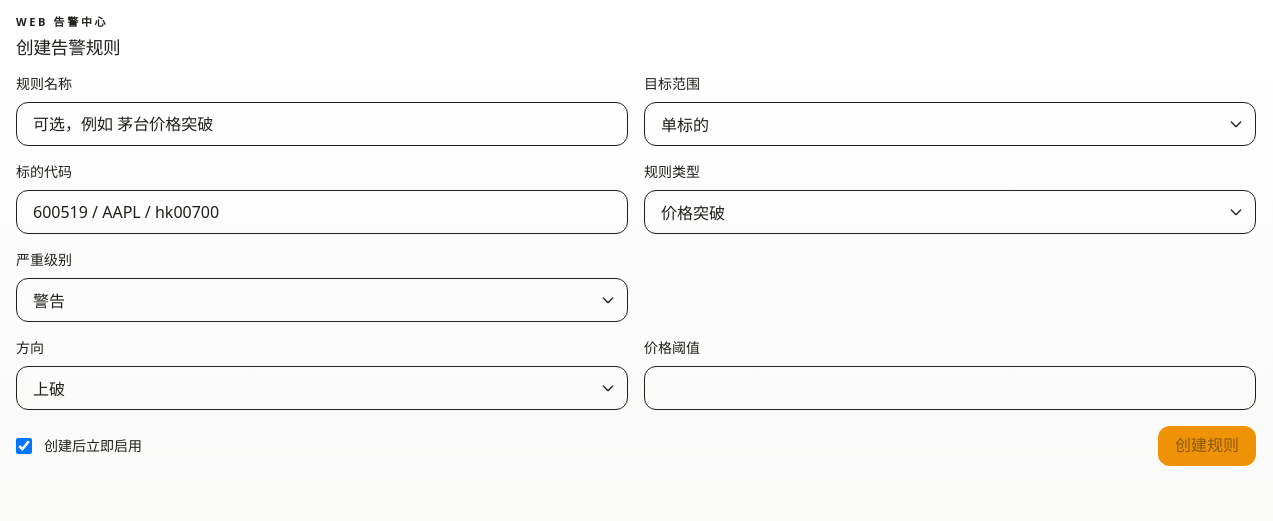
Test: AlertRuleForm › rejects indicator period combinations that exceed fetchable history
The image size is (1273, 521).
Type "600519" into the field labelled "标的代码" at (322, 212), box x1=16 y1=190 x2=628 y2=234
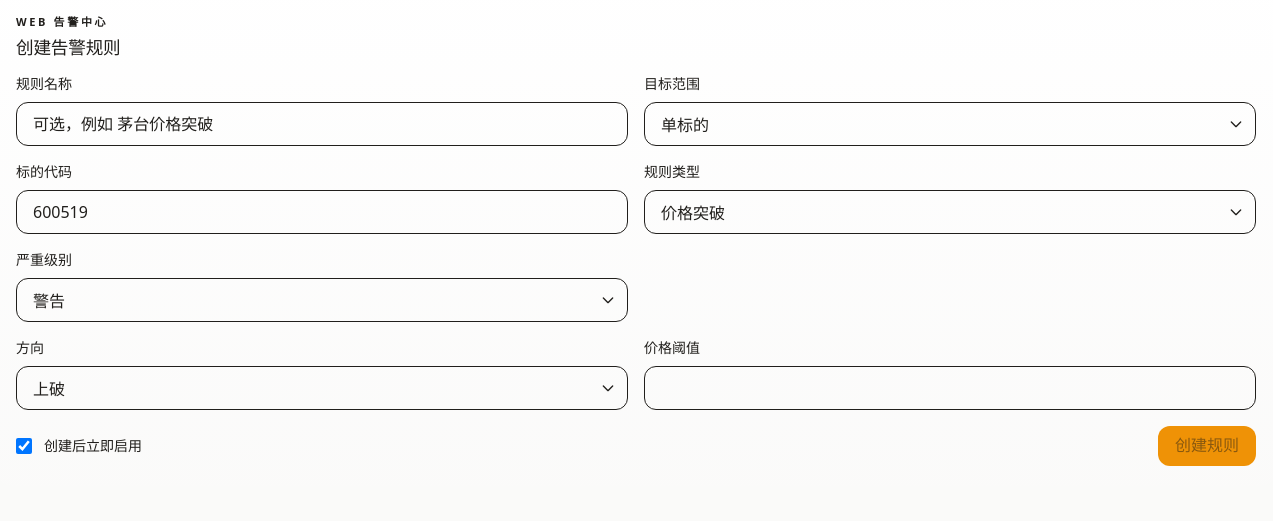
Select "MACD 金叉/死叉" in the dropdown labelled "规则类型" at (950, 212), box x1=644 y1=190 x2=1256 y2=234
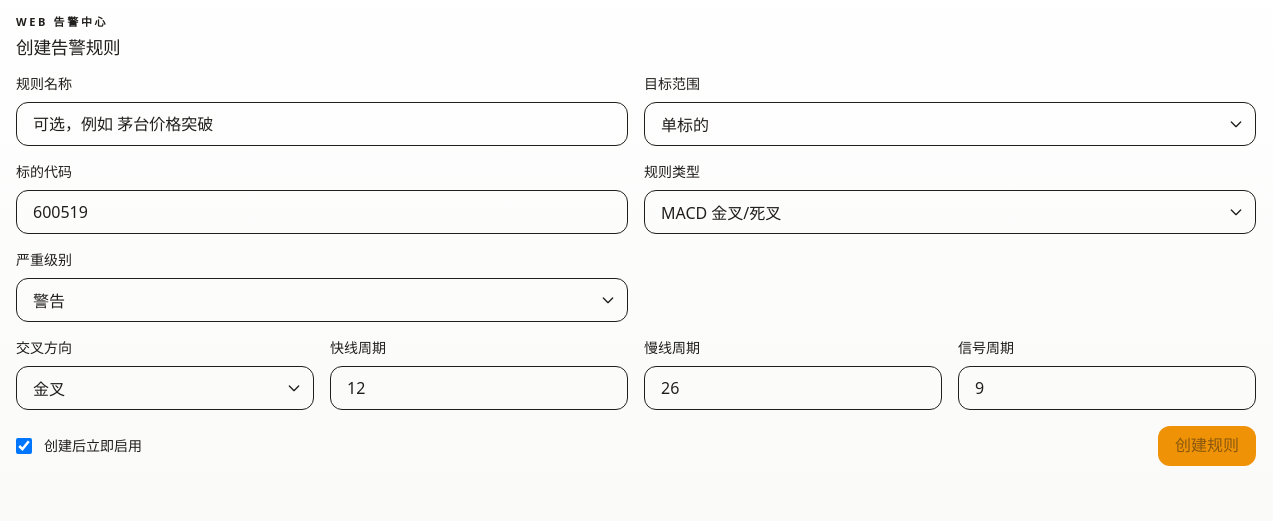
Replace the text in the number field labelled "快线周期" with "2" at (479, 388), box x1=330 y1=366 x2=628 y2=410
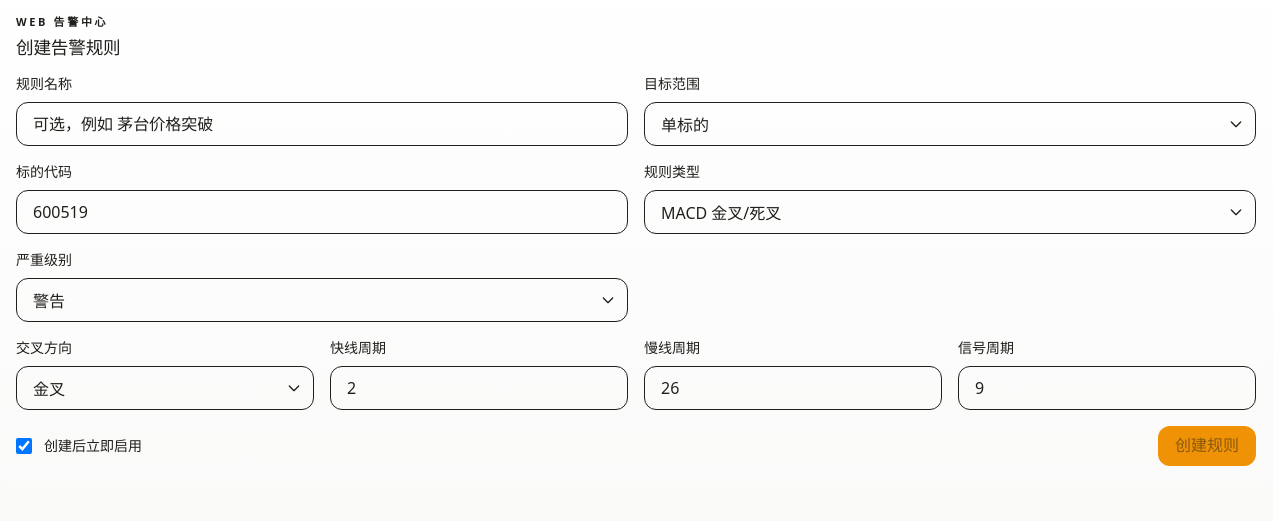
Replace the text in the number field labelled "慢线周期" with "250" at (793, 388), box x1=644 y1=366 x2=942 y2=410
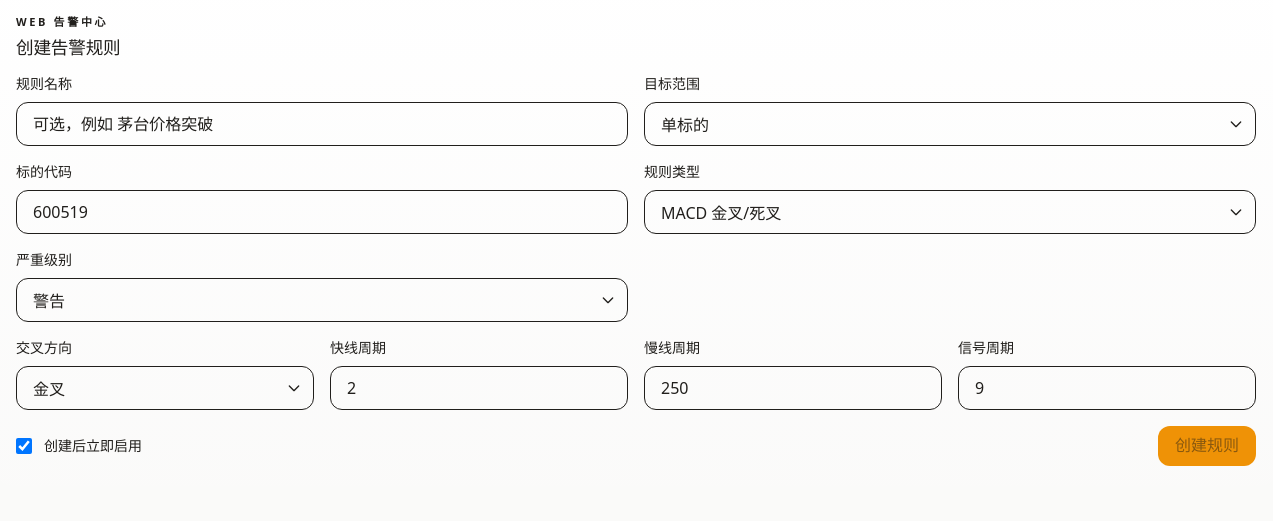
Replace the text in the number field labelled "信号周期" with "250" at (1107, 388), box x1=958 y1=366 x2=1256 y2=410
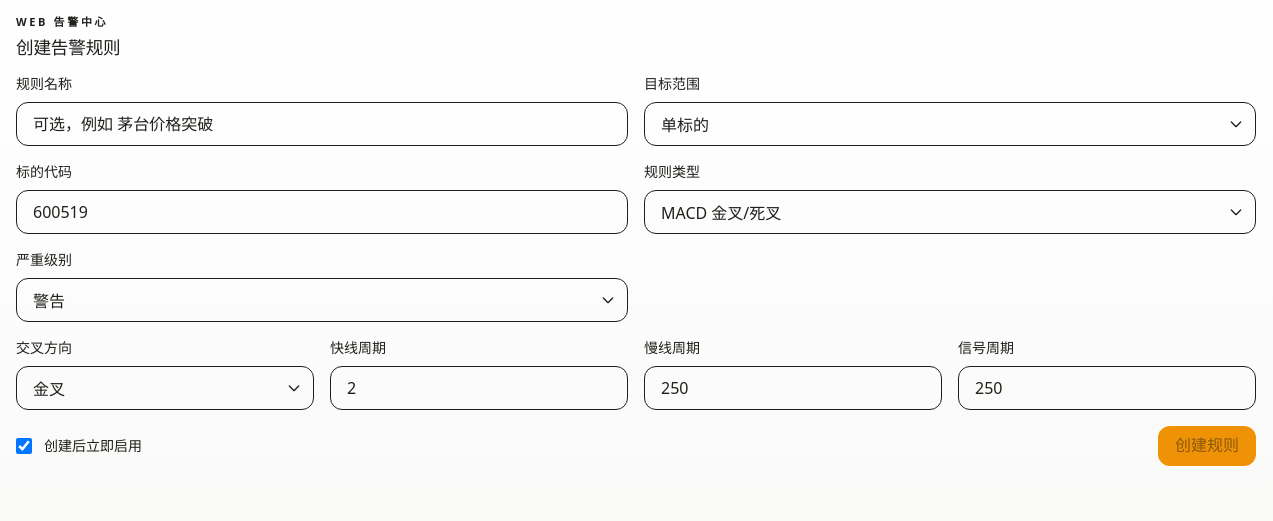
Click the button "创建规则" at (1207, 446), box x1=1158 y1=426 x2=1256 y2=466
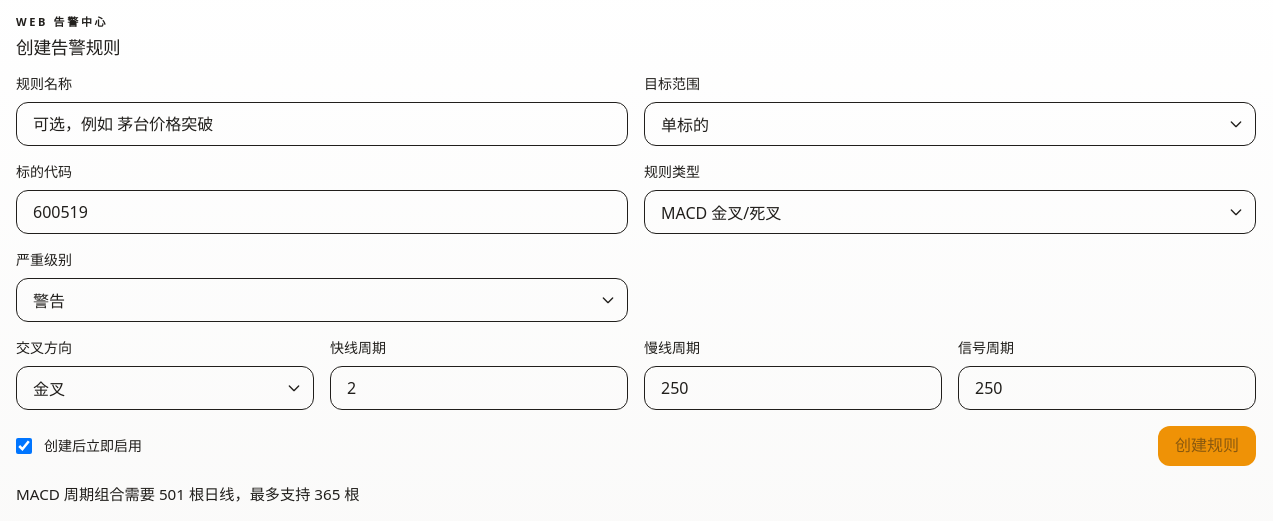
expect the message reads "MACD 周期组合需要 501 根日线，最多支持 365 根": met, box x1=16 y1=484 x2=360 y2=504
